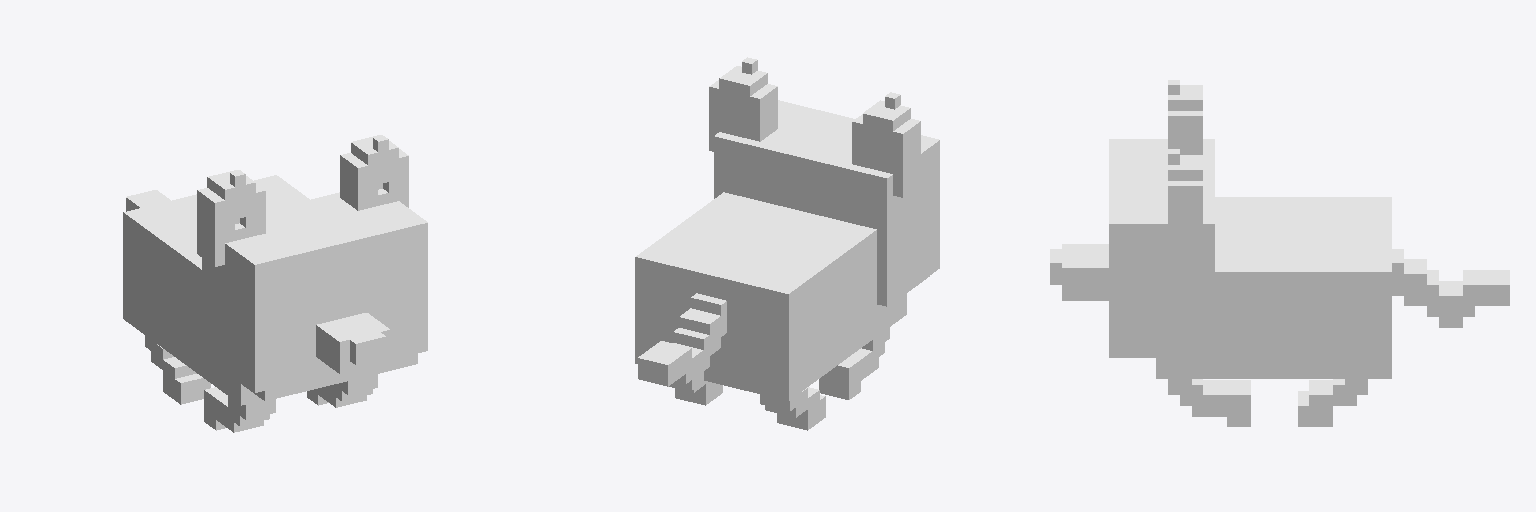
File: nanar3.obj
The picture shows the model from 3 angles: view 1: azimuth 30°, elevation 25°; view 2: azimuth 150°, elevation 25°; view 3: azimuth 270°, elevation 25°; orthographic projection.
Size of the model in its own units: 19 by 26 by 39.